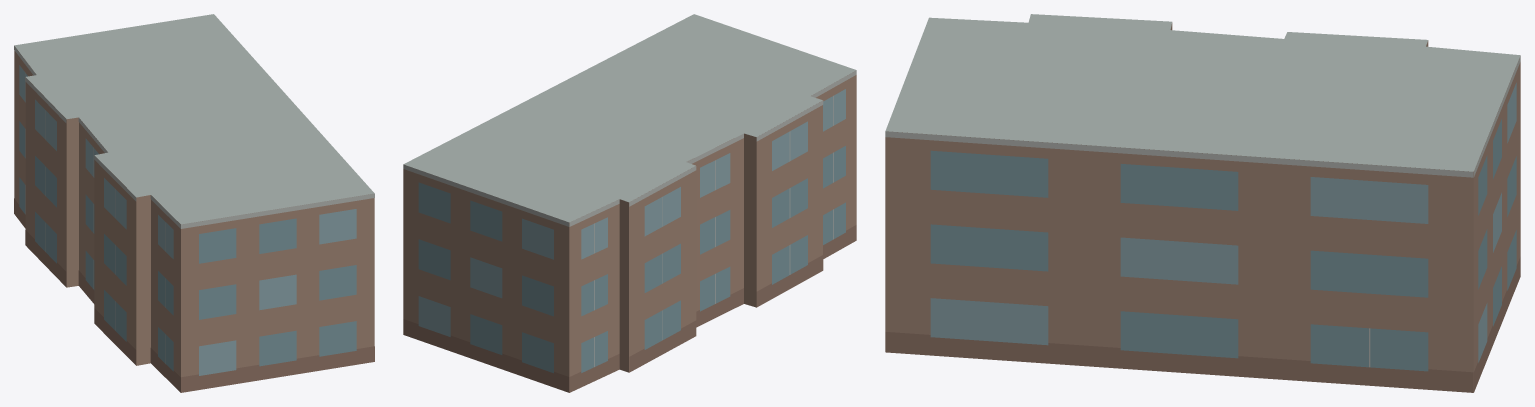
The model's file is survey-upis-32690020.glb.
The picture shows the model from 3 angles, left to right: view 1: azimuth 30°, elevation 25°; view 2: azimuth 150°, elevation 25°; view 3: azimuth 270°, elevation 25°; orthographic projection. The views are drawn at different scales.
Visible parts, largest first — view 1: survey-upis-32690020.tmp; view 2: survey-upis-32690020.tmp; view 3: survey-upis-32690020.tmp.
Part boxes in pixels (x1,y1,x2,y2): survey-upis-32690020.tmp: [14, 14, 374, 392]; survey-upis-32690020.tmp: [403, 14, 856, 392]; survey-upis-32690020.tmp: [885, 14, 1520, 392].
Size of the model in its own units: 14.01 by 9.15 by 23.84.
